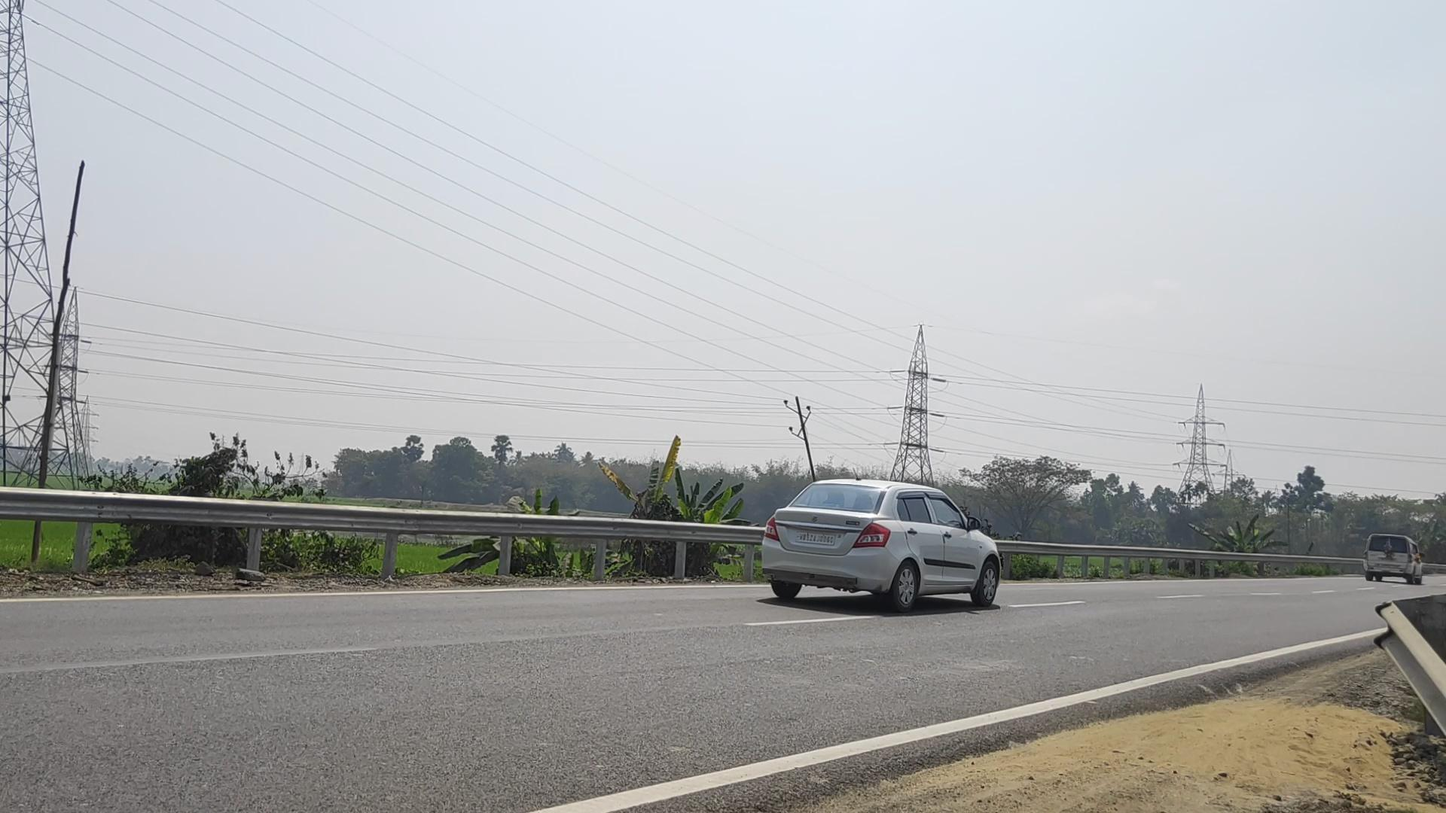car: (761, 478, 1005, 613), (1362, 533, 1425, 585)
